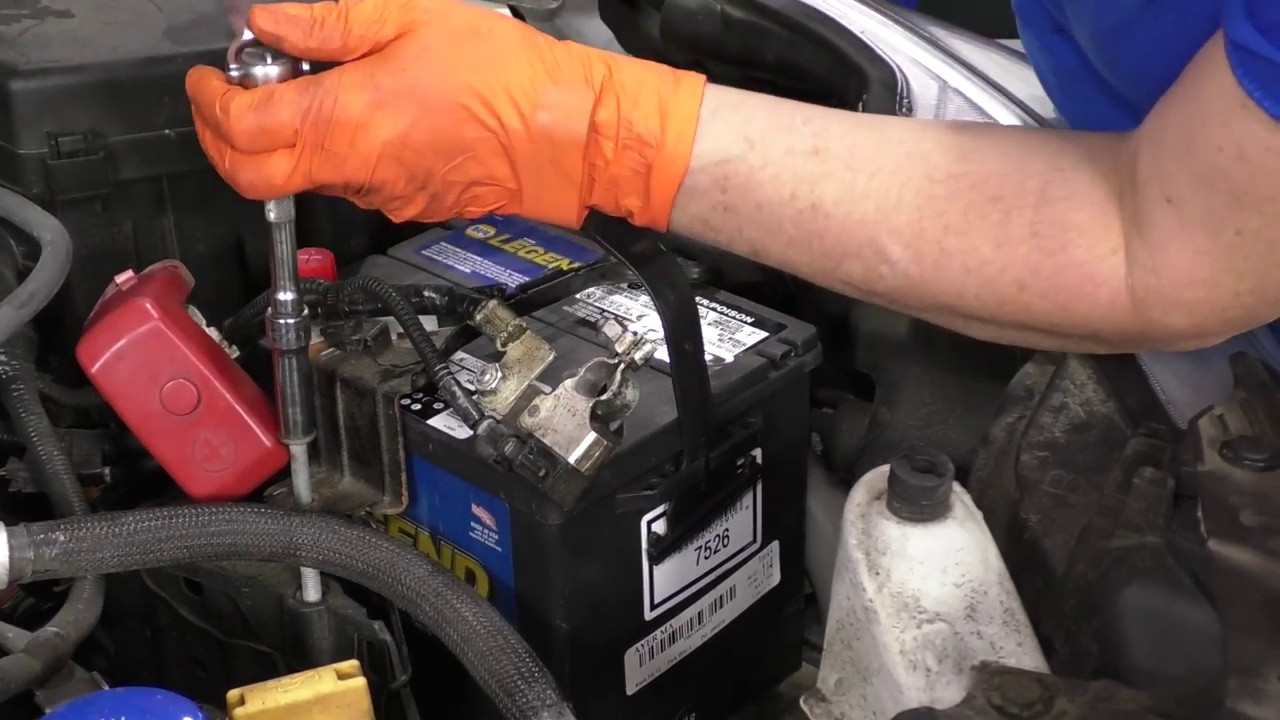battery: (221, 210, 817, 476)
